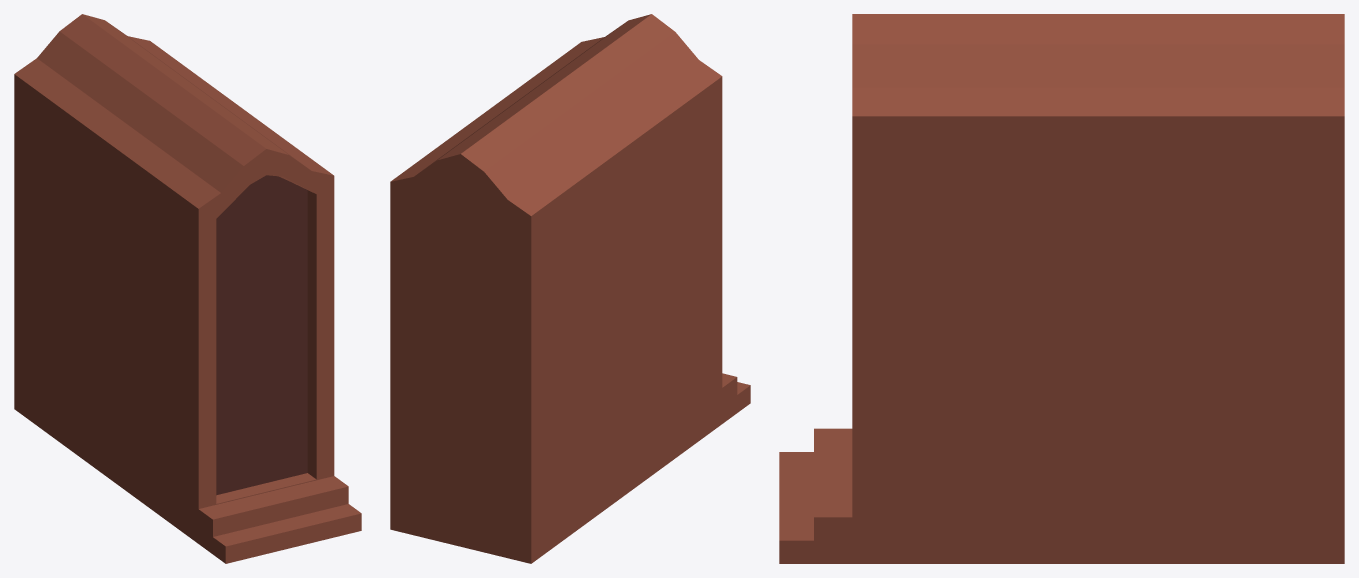
Rendered from door1_textured.fbx.
3 views of the same model, side by side, from view 1: azimuth 30°, elevation 25°; view 2: azimuth 150°, elevation 25°; view 3: azimuth 270°, elevation 25° (orthographic). The views are drawn at different scales.
Parts seen in each view (by area): view 1: Cube.021; view 2: Cube.021; view 3: Cube.021.
Boxes of the visible parts, box(x1,y1,x2,y2) form: Cube.021: box(14, 14, 361, 563); Cube.021: box(390, 14, 750, 563); Cube.021: box(779, 14, 1344, 563).
Bounding box in the file's own units: 44.59 × 119 × 120.
